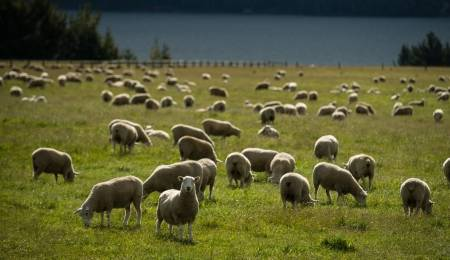sheep: (75, 176, 145, 230), (155, 176, 204, 240), (313, 162, 372, 205), (143, 159, 205, 199), (29, 147, 80, 187), (395, 174, 437, 217), (280, 171, 315, 206), (222, 152, 256, 188), (176, 133, 221, 160), (203, 114, 243, 143), (344, 152, 386, 179), (110, 121, 139, 155), (311, 132, 342, 159), (247, 146, 274, 173), (146, 123, 170, 142), (255, 106, 279, 123), (255, 124, 280, 139), (392, 105, 414, 119), (354, 104, 376, 117), (111, 92, 130, 105), (295, 101, 310, 117), (316, 107, 336, 118), (432, 106, 444, 123), (309, 88, 320, 102)
